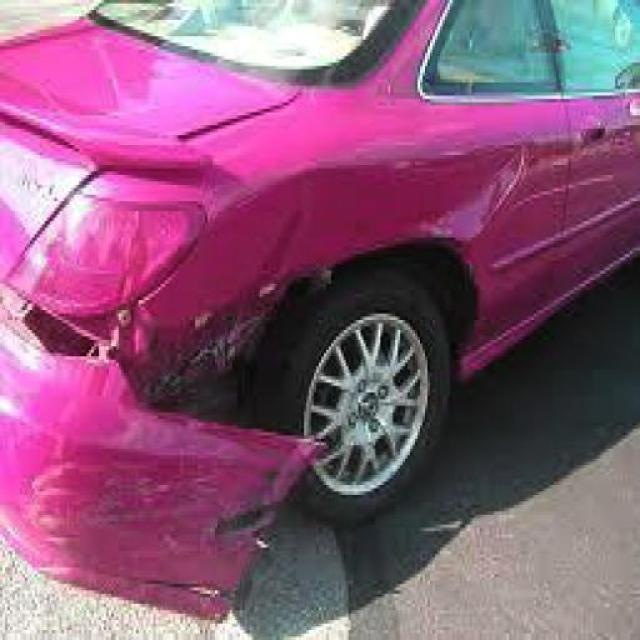car damage: (0, 0, 532, 39)
